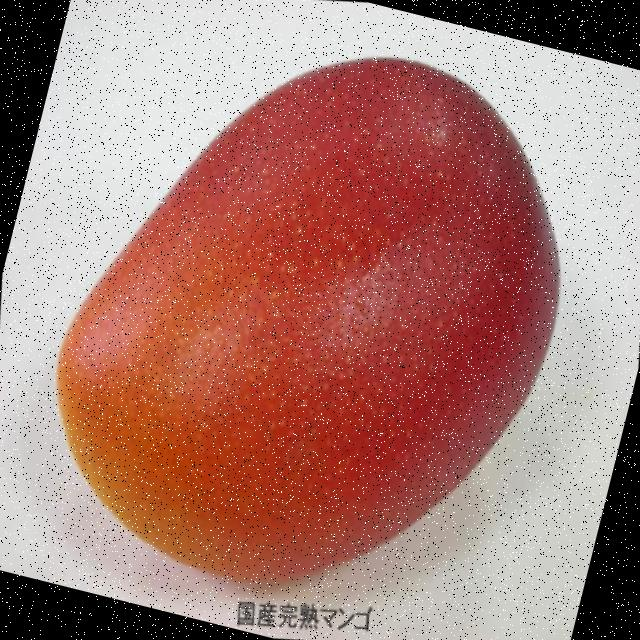mango: (58, 61, 559, 581)
